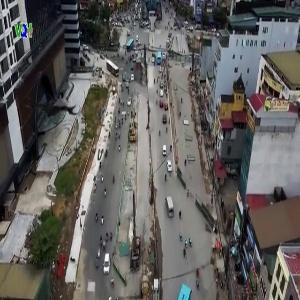drone: (27, 83, 81, 137)
